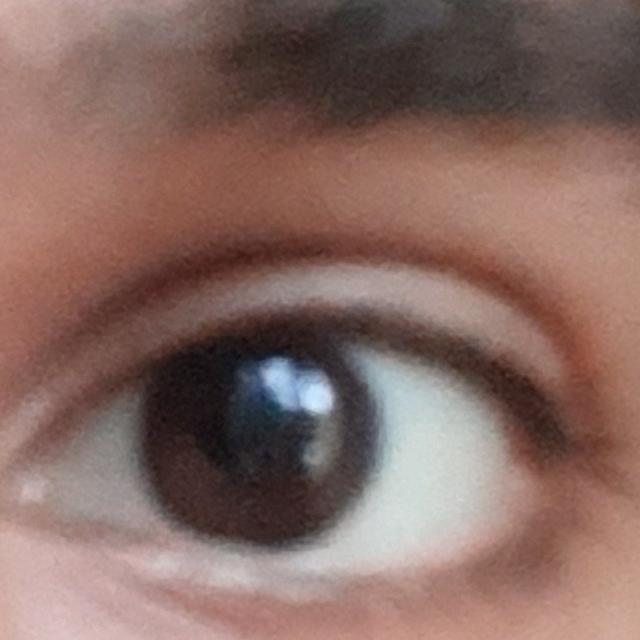eye: (53, 330, 518, 573)
iris: (140, 339, 383, 542)
